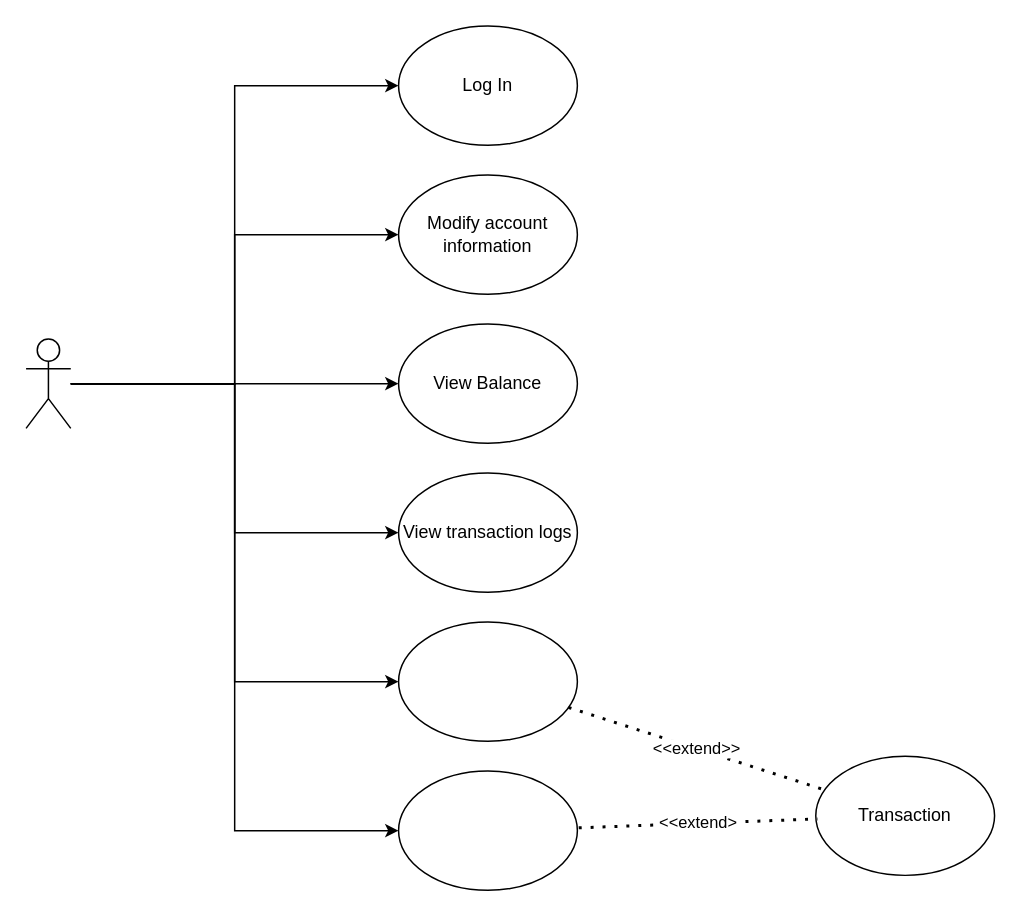
Image size: 1021x916. Some labels were removed from this diagram. The centre of each missing label's shape, as x and y in pixels:
"Client" belongs at (48,382).
"Deposit" belongs at (487,681).
"Withdraw" belongs at (487,830).
